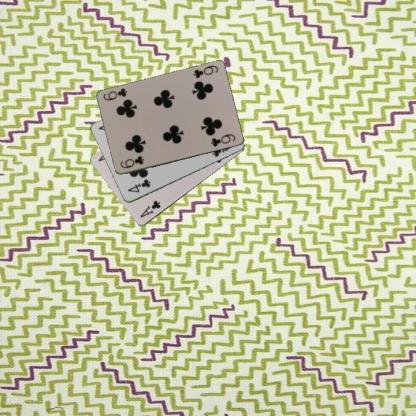4c: (125, 176, 152, 194)
6c: (191, 63, 220, 80), (117, 153, 145, 170)
Ac: (137, 198, 162, 219)
